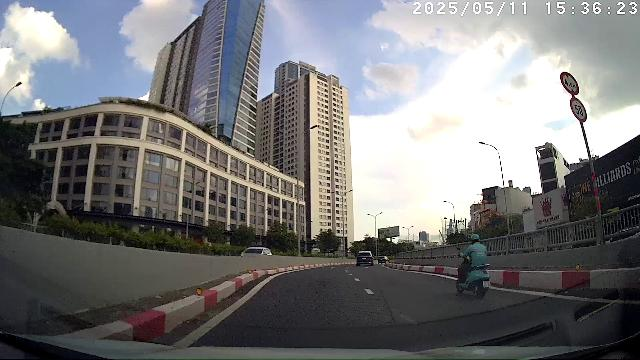127-toc-do-toi-da-50: (570, 98, 588, 122)
